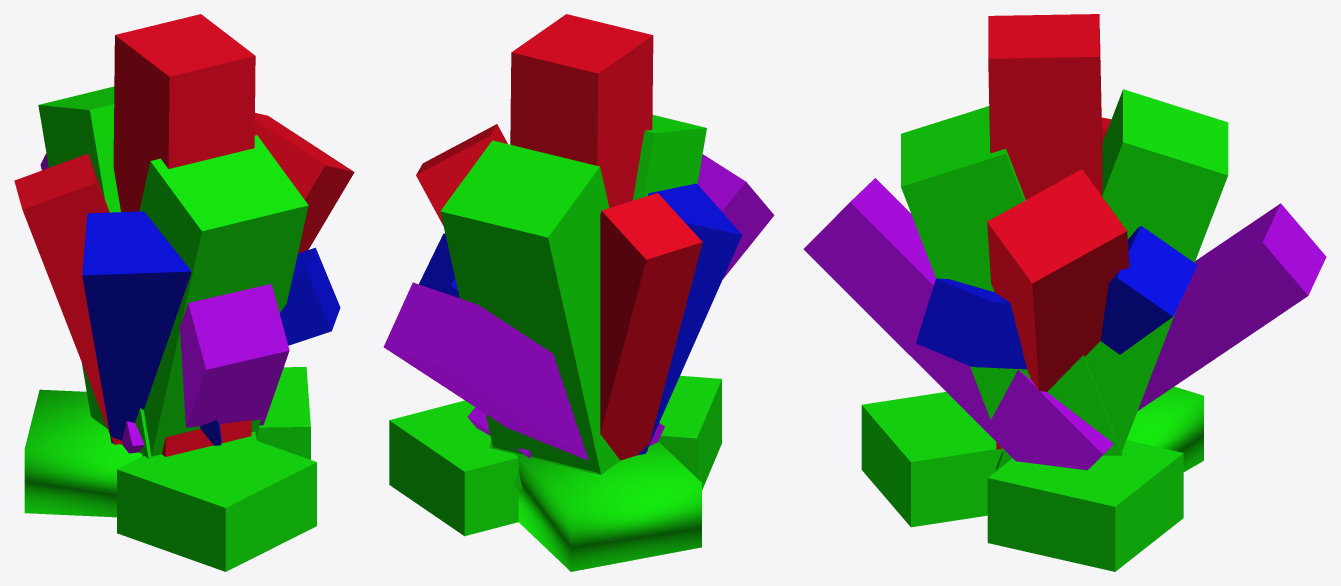
The model's file is OreCluster.fbx.
3 views of the same model, side by side, from view 1: azimuth 30°, elevation 25°; view 2: azimuth 150°, elevation 25°; view 3: azimuth 270°, elevation 25° (orthographic).
Parts seen in each view (by area): view 1: Cube.002, Cube.003, Cube.012, Cube.005, Cube.001, Cube.007, Cube.006, Cube.004, Cube.008, Cube.010, Cube.011, Cube; view 2: Cube.004, Cube.003, Cube.006, Cube.007, Cube, Cube.011, Cube.005, Cube.012, Cube.002, Cube.001, Cube.008, Cube.009; view 3: Cube.001, Cube.004, Cube.008, Cube.011, Cube.002, Cube.003, Cube, Cube.012, Cube.010, Cube.009, Cube.007.
Boxes of the visible parts, left/top/right/bottom form: Cube.002: left=139, top=135, right=308, bottom=456; Cube.003: left=113, top=14, right=255, bottom=456; Cube.012: left=117, top=437, right=316, bottom=571; Cube.005: left=82, top=211, right=221, bottom=445; Cube.001: left=179, top=284, right=289, bottom=427; Cube.007: left=24, top=389, right=142, bottom=517; Cube.006: left=14, top=153, right=121, bottom=444; Cube.004: left=38, top=86, right=256, bottom=458; Cube.008: left=254, top=113, right=354, bottom=253; Cube.010: left=279, top=247, right=340, bottom=345; Cube.011: left=256, top=367, right=310, bottom=459; Cube: left=40, top=153, right=144, bottom=453; Cube.004: left=440, top=140, right=620, bottom=474; Cube.003: left=510, top=14, right=653, bottom=207; Cube.006: left=600, top=193, right=702, bottom=460; Cube.007: left=515, top=441, right=701, bottom=571; Cube: left=383, top=282, right=664, bottom=460; Cube.011: left=389, top=400, right=518, bottom=536; Cube.005: left=637, top=183, right=742, bottom=455; Cube.012: left=658, top=375, right=721, bottom=490; Cube.002: left=489, top=115, right=706, bottom=489; Cube.001: left=467, top=154, right=774, bottom=458; Cube.008: left=416, top=124, right=507, bottom=225; Cube.009: left=419, top=233, right=459, bottom=297; Cube.001: left=803, top=178, right=1113, bottom=470; Cube.004: left=996, top=89, right=1228, bottom=470; Cube.008: left=987, top=169, right=1129, bottom=391; Cube.011: left=987, top=440, right=1183, bottom=571; Cube.002: left=901, top=106, right=1122, bottom=462; Cube.003: left=988, top=14, right=1102, bottom=449; Cube: left=1137, top=203, right=1326, bottom=410; Cube.012: left=861, top=392, right=1002, bottom=527; Cube.010: left=916, top=278, right=1026, bottom=369; Cube.009: left=1100, top=225, right=1197, bottom=354; Cube.007: left=1126, top=386, right=1203, bottom=471.
Bounding box in the file's own units: 106 × 149 × 154.
